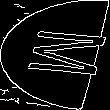M_E: (6, 28, 104, 82)
